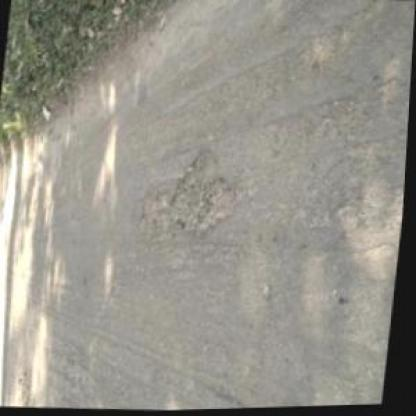pothole: (140, 144, 247, 243), (10, 350, 44, 406)
